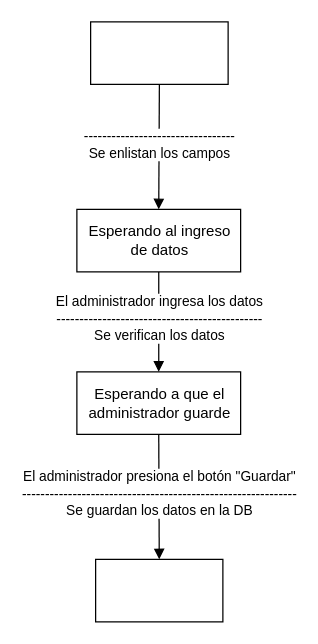
The diagram is 318 pixels wide and 644 high, and some of its shapes have lost their labels. Here are the shapes that lost their labels. From the top down, the centre of each, then its label:
point 158,52: Inicio
point 158,590: Fin
